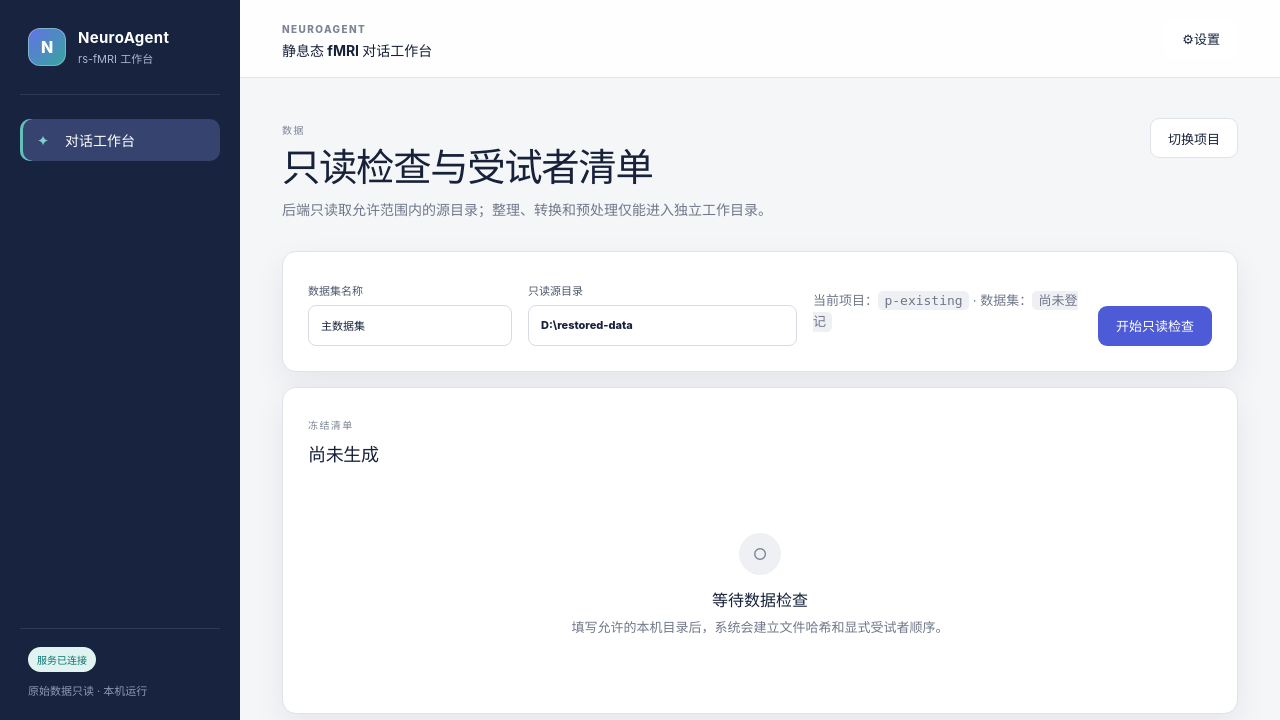
Test case: App › registers and inspects a dataset for a restored project that has no dataset pointer
expect the field showing "D:\\restored-data" is shown: met, box [528,305,797,346]
expect the text "当前项目：p-existing · 数据集：尚未登记" is shown: met, box [813,290,1082,333]
Click the button "开始只读检查": (1155, 326) [1098,306,1212,346]
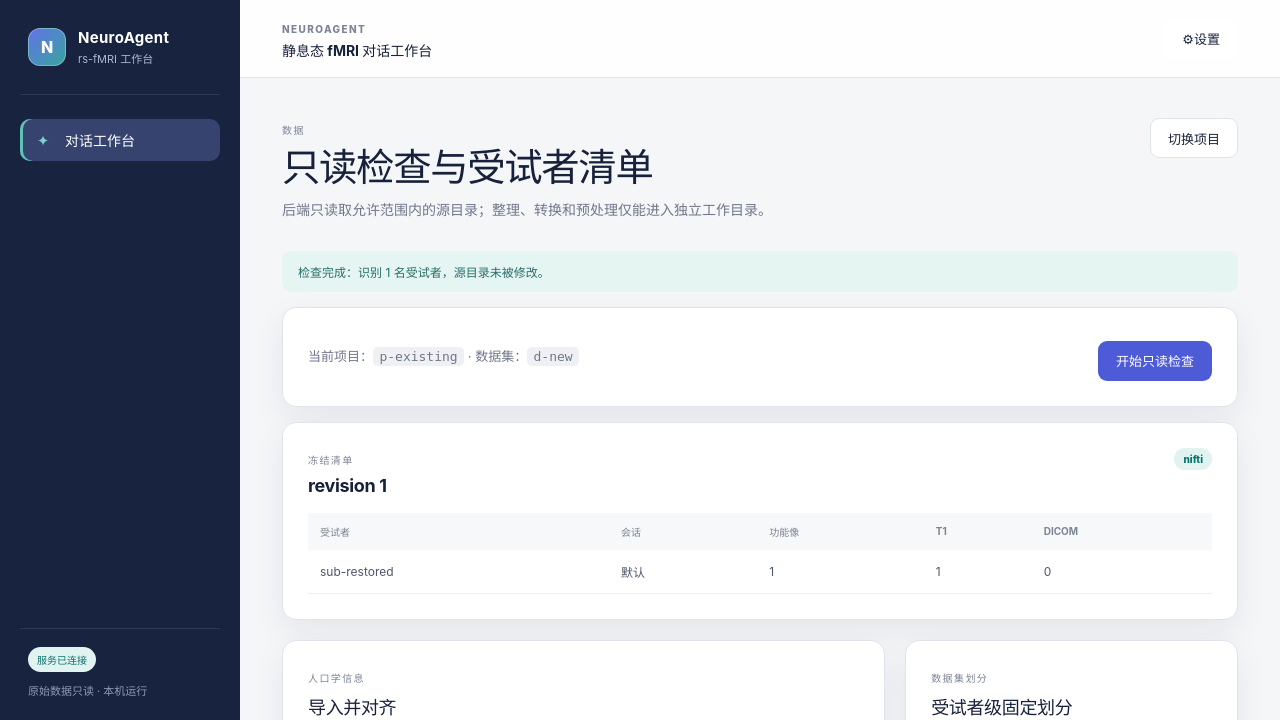
expect the text "检查完成：识别 1 名受试者，源目录未被修改。" is shown: met, box [282,251,1238,292]
